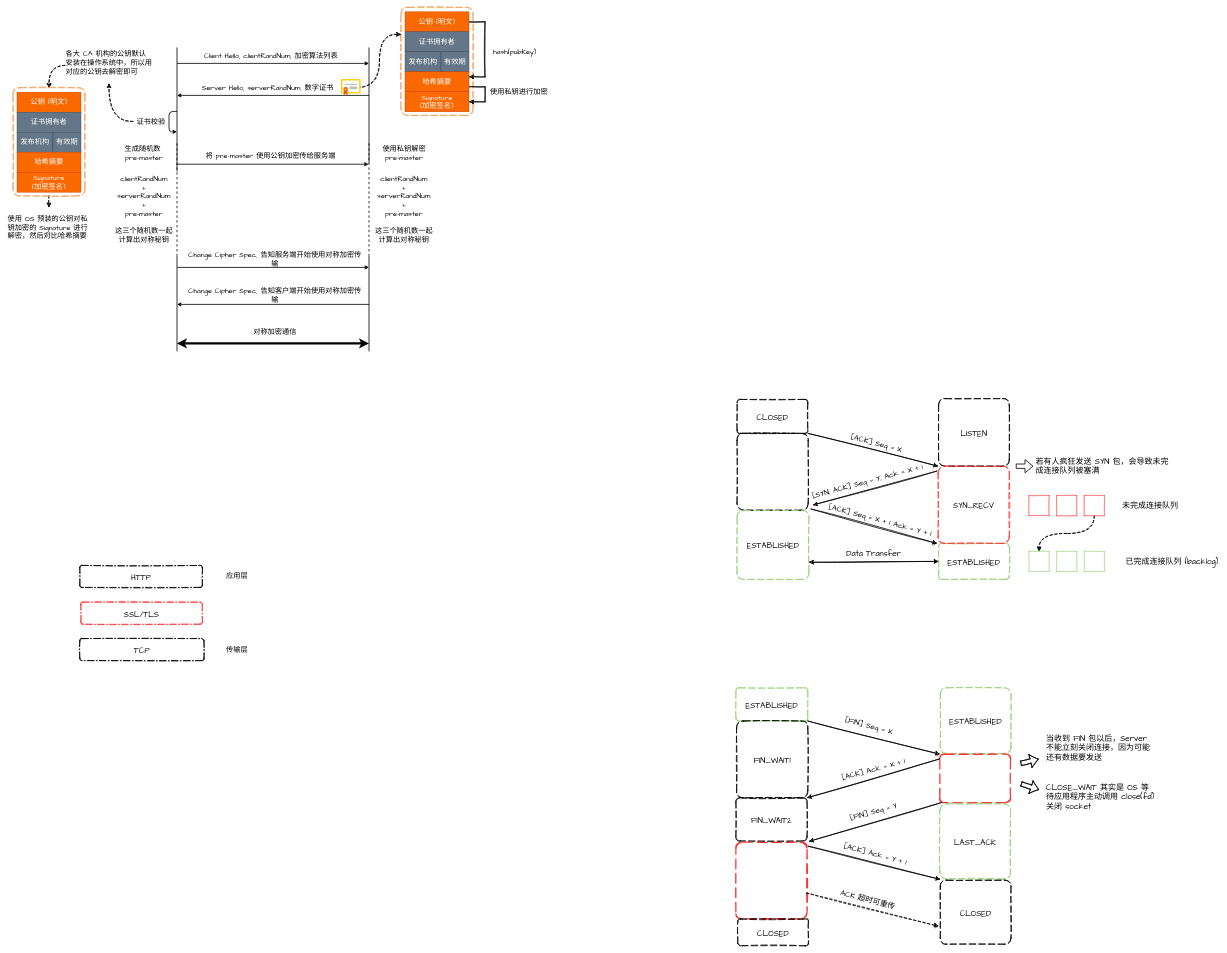
Some shapes in this 1227 by 953 pixel diagram are drawn without their labels. Each missing label, with the centre of its shape:
"CLOSE_WAIT" goes at (x=975, y=778).
"SYN_SENT" goes at (x=772, y=471).
"TIME_WAIT (等待2MSL)" goes at (x=771, y=880).
